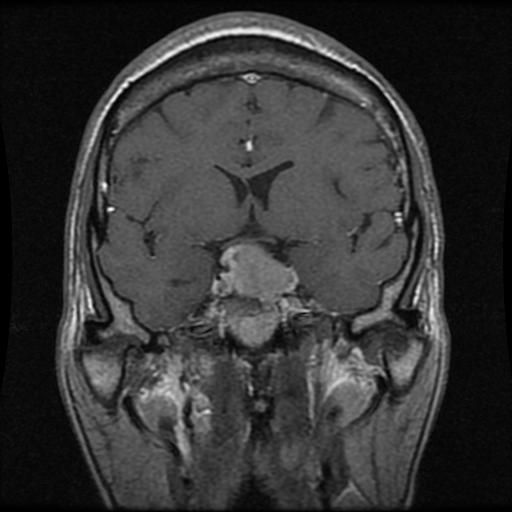Pituirity_tumour: (226, 247, 295, 302)
